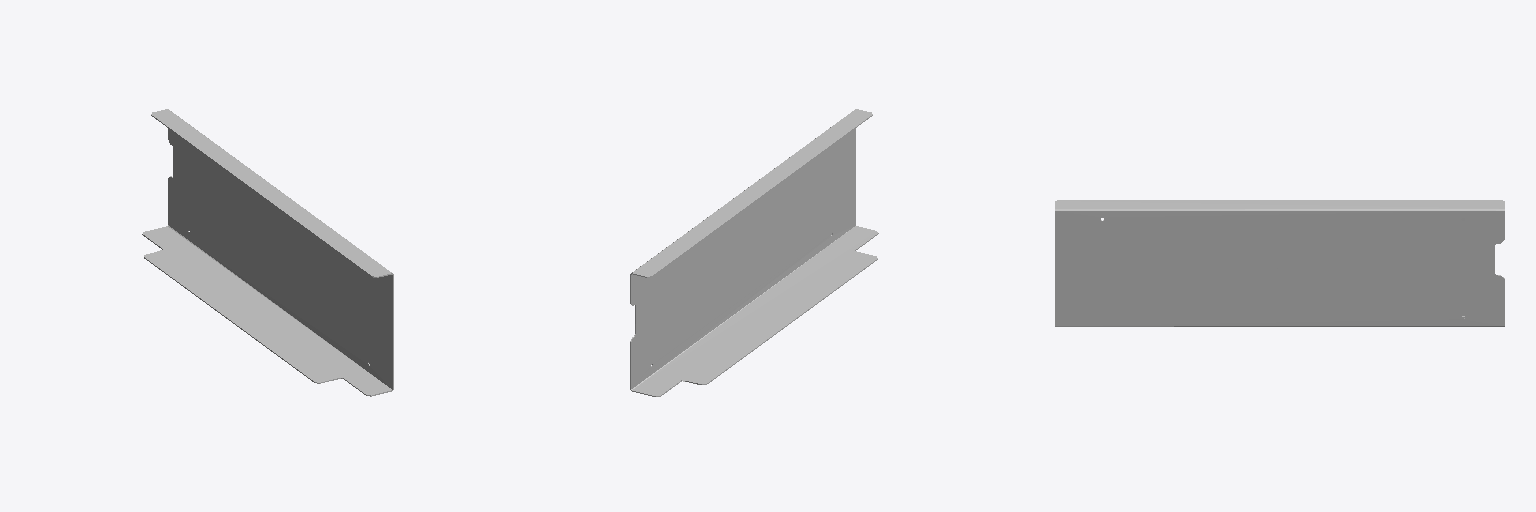
The model's file is torso_base.obj.
3 renders of one model, left to right at view 1: azimuth 30°, elevation 25°; view 2: azimuth 150°, elevation 25°; view 3: azimuth 270°, elevation 25°, orthographic.
Bounding box in the file's own units: 0.05 × 0.1105 × 0.38.